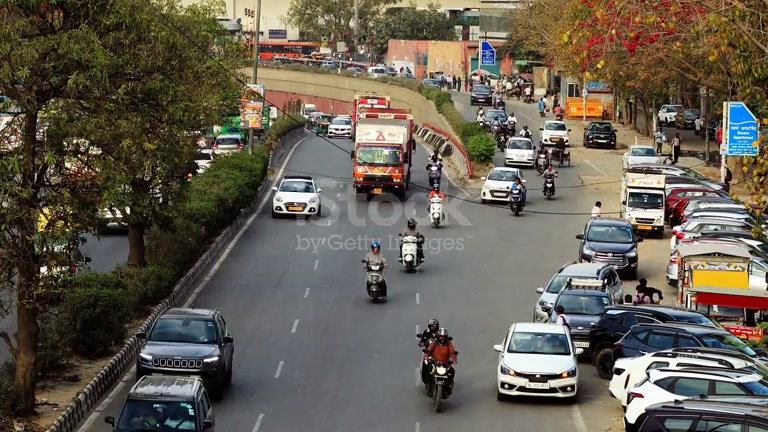bus: (673, 240, 768, 323), (239, 83, 266, 134), (257, 42, 320, 61)
car: (590, 306, 757, 378), (603, 327, 767, 398), (614, 361, 768, 426), (601, 323, 761, 377), (611, 355, 768, 410), (135, 307, 235, 393), (493, 321, 580, 403), (109, 375, 215, 431), (533, 264, 625, 322), (631, 399, 768, 430), (575, 218, 642, 280), (271, 178, 322, 219), (480, 167, 526, 204), (503, 136, 539, 168), (622, 146, 665, 171), (583, 121, 617, 149), (540, 120, 572, 148), (211, 131, 243, 153), (326, 114, 353, 139), (470, 84, 493, 105)
motorcycle: (420, 352, 456, 413), (398, 236, 426, 272), (364, 264, 388, 303), (427, 192, 446, 228), (507, 182, 527, 216), (542, 174, 557, 199)
pedestrian: (422, 331, 458, 389), (397, 218, 425, 263), (361, 240, 387, 288), (670, 133, 682, 164)
truck: (352, 107, 415, 200), (620, 170, 667, 238)
